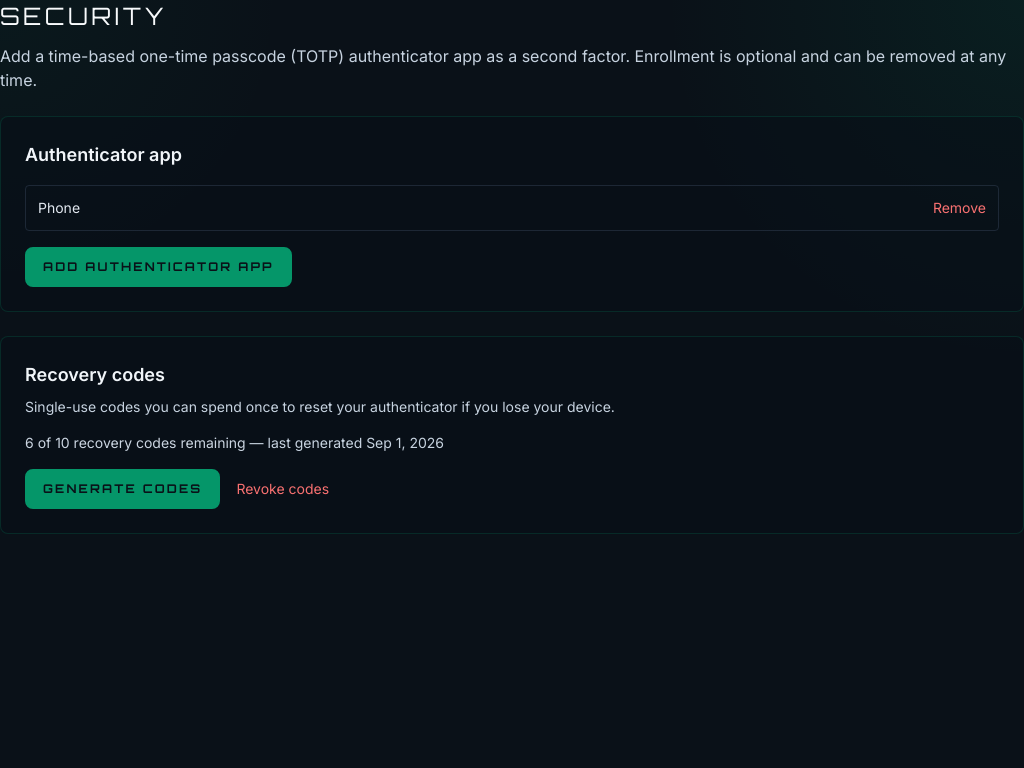
Test case: MfaSettingsClient › steps up before retrying revocation
The image size is (1024, 768).
Click the button "Revoke codes".
click(283, 489)  # box [236, 479, 329, 499]
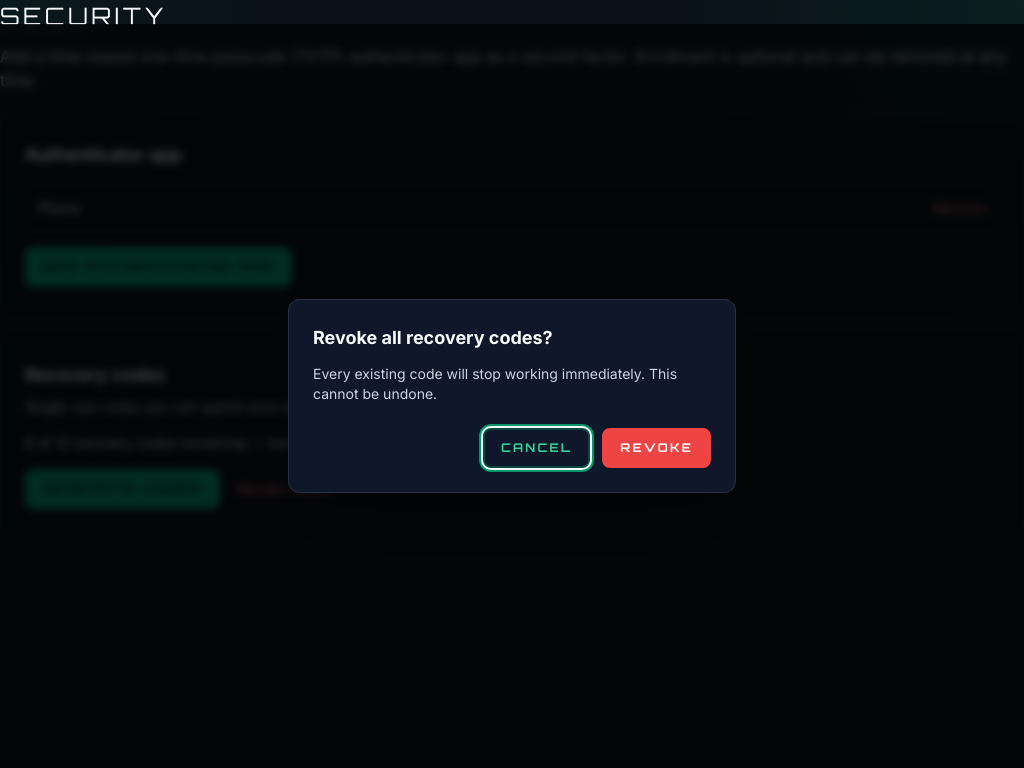
Click the button "Revoke".
click(657, 448)  # box [602, 428, 711, 468]
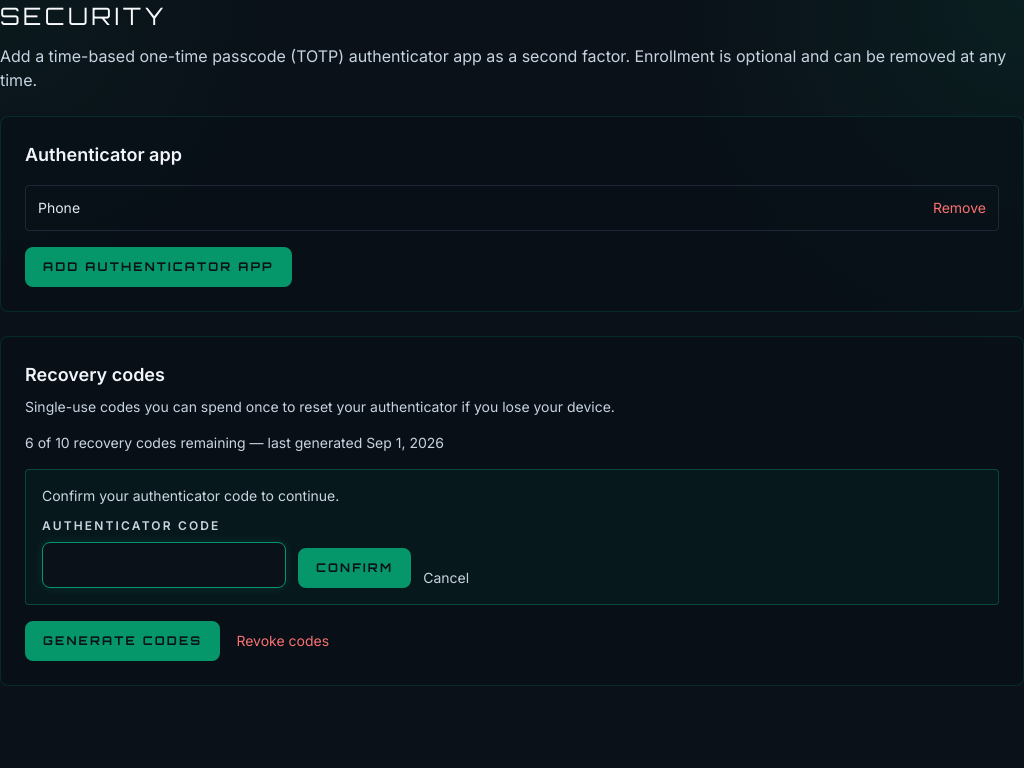
Check: the field labelled "Authenticator code" is shown
Type "123456" into the field labelled "Authenticator code".
click(164, 565); type("123456")  # box [42, 542, 286, 588]
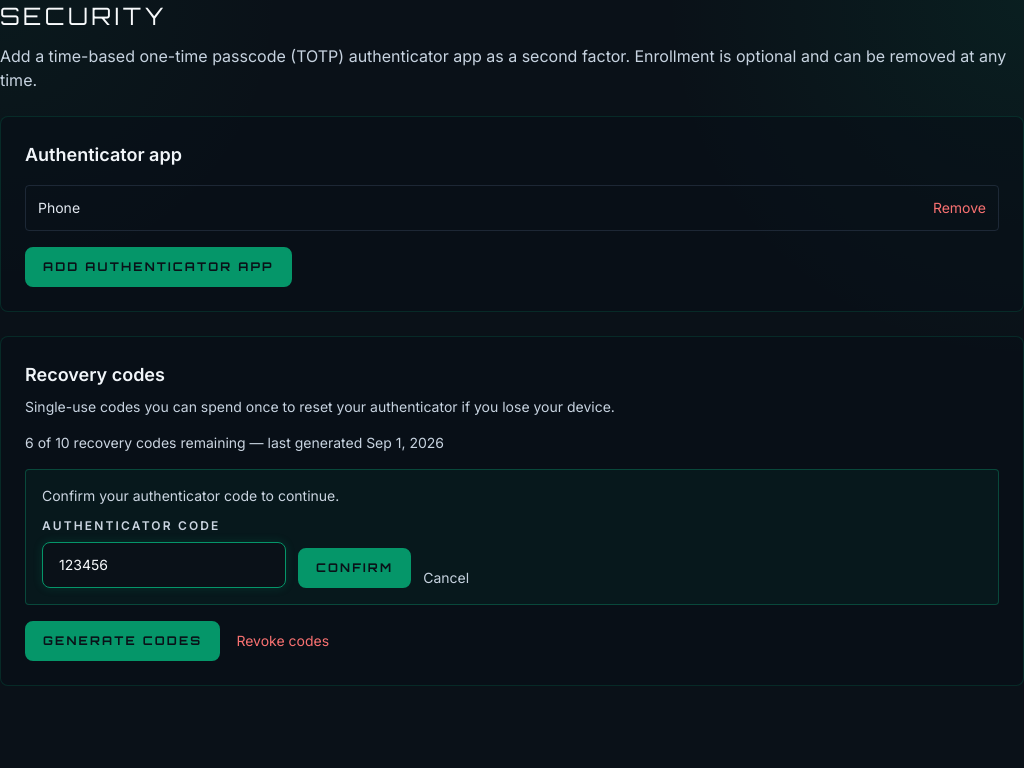
Click the button "Confirm".
click(355, 568)  # box [298, 548, 411, 588]
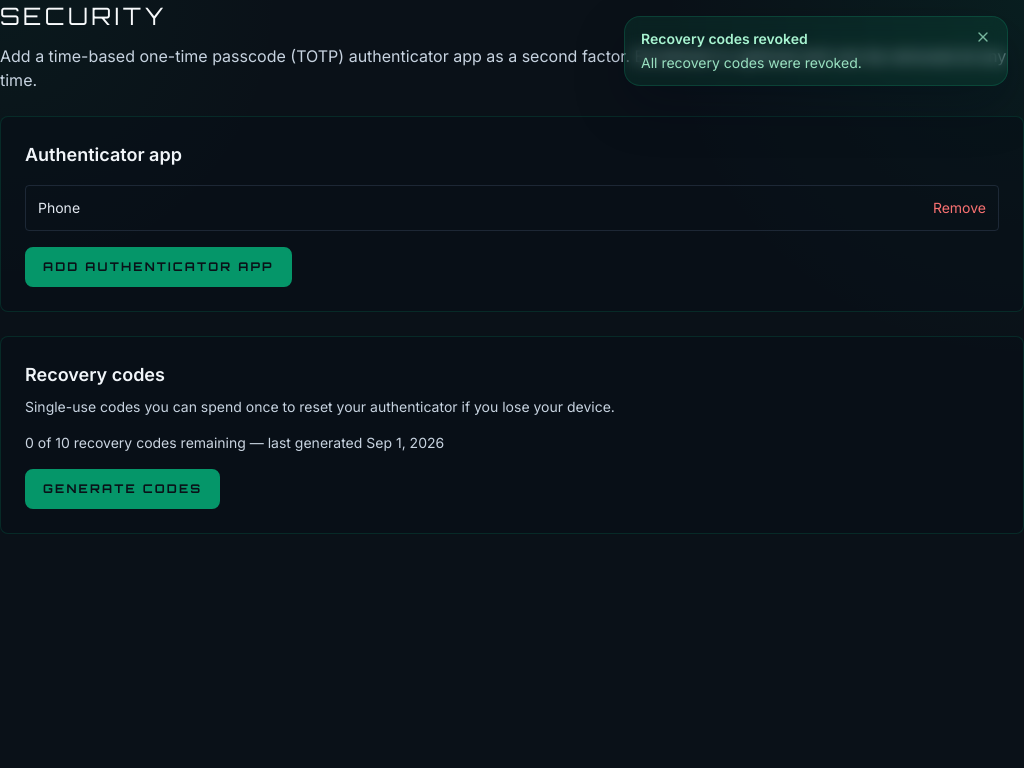
Check: the text "All recovery codes were revoked." is shown, box [641, 53, 862, 73]
Check: the text "0 of 10 recovery codes remaining" is shown, box [25, 434, 444, 451]
